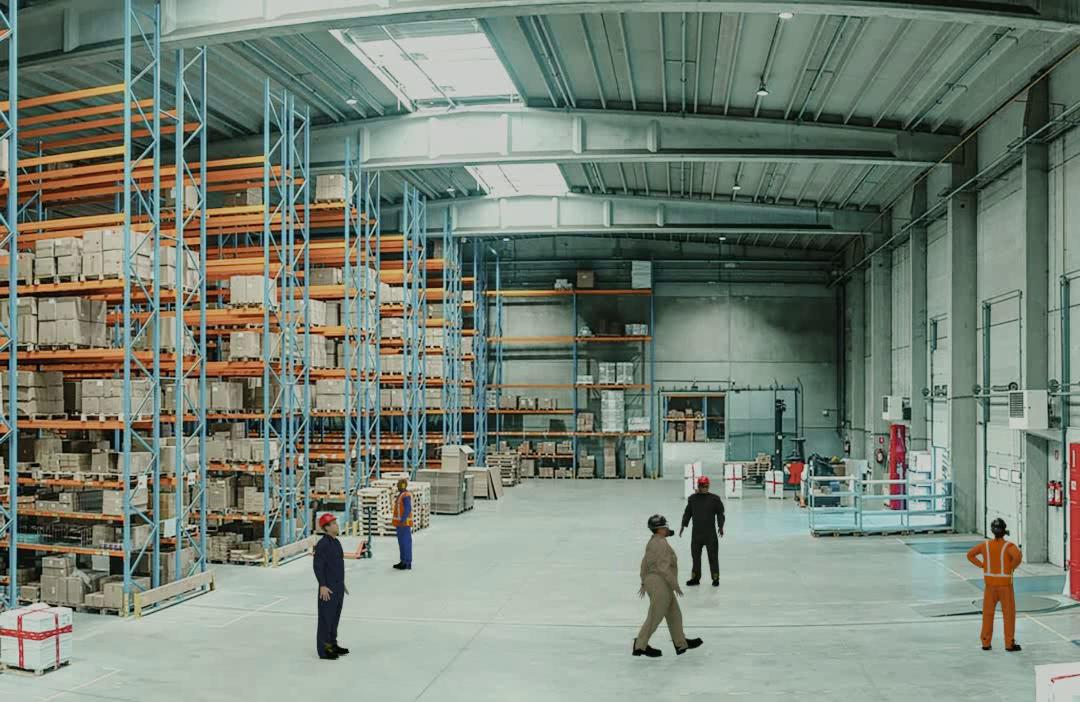Helmet: (646, 514, 667, 529), (318, 513, 337, 526), (991, 517, 1008, 531), (696, 476, 711, 486)
Jacket: (982, 539, 1013, 583), (392, 491, 413, 526)
Shoes: (673, 637, 705, 655), (634, 644, 660, 660), (317, 649, 339, 660), (1004, 642, 1022, 652), (685, 577, 701, 586), (337, 645, 350, 655), (393, 563, 411, 570), (982, 642, 993, 651), (712, 578, 719, 587)
